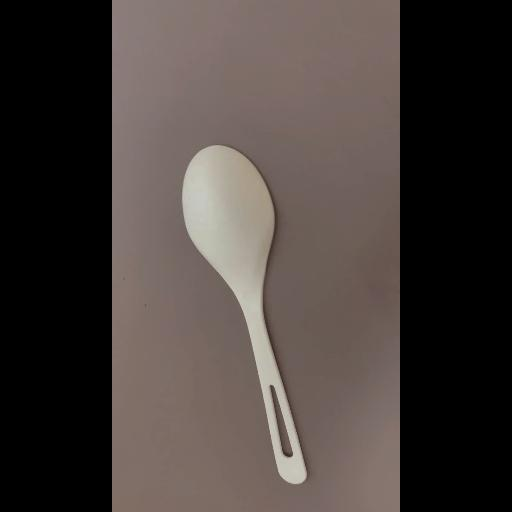utensil: (178, 142, 312, 486)
